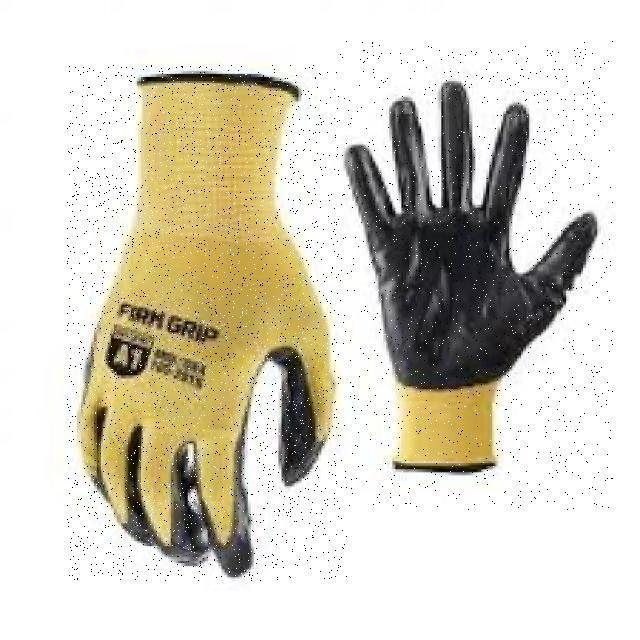gloves: (75, 65, 338, 580), (345, 80, 598, 468)
